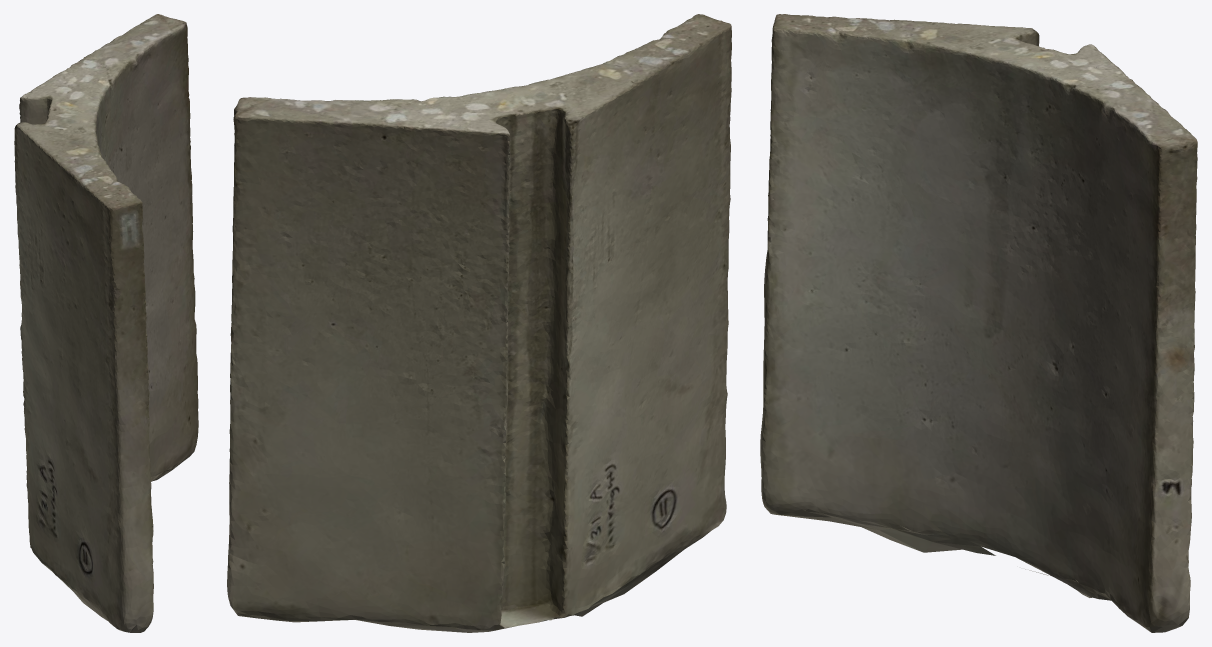
Rendered from Basement 3.glb.
3 views of the same model, side by side, from view 1: azimuth 30°, elevation 25°; view 2: azimuth 150°, elevation 25°; view 3: azimuth 270°, elevation 25° (orthographic). The views are drawn at different scales.
Bounding box in the file's own units: 0.1657 × 0.2839 × 0.2183.
Materials: 1 (1 with a texture image).
